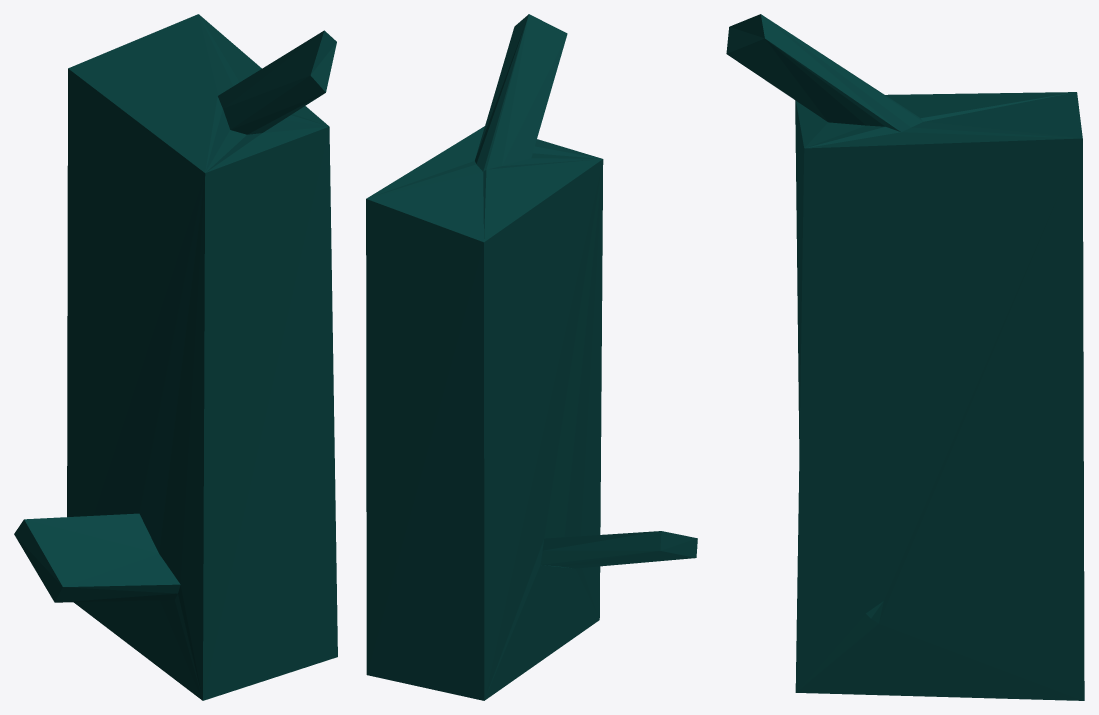
3 renders of one model, left to right at view 1: azimuth 30°, elevation 25°; view 2: azimuth 150°, elevation 25°; view 3: azimuth 270°, elevation 25°, orthographic. The views are drawn at different scales.
Visible parts, largest first — view 1: 553_Cube.2230; view 2: 553_Cube.2230; view 3: 553_Cube.2230.
Boxes of the visible parts, box(x1,y1,x2,y2) form: 553_Cube.2230: box(14, 14, 337, 700); 553_Cube.2230: box(366, 14, 697, 700); 553_Cube.2230: box(726, 14, 1084, 700).
Bounding box in the file's own units: 6.24 × 14.7 × 7.04.
